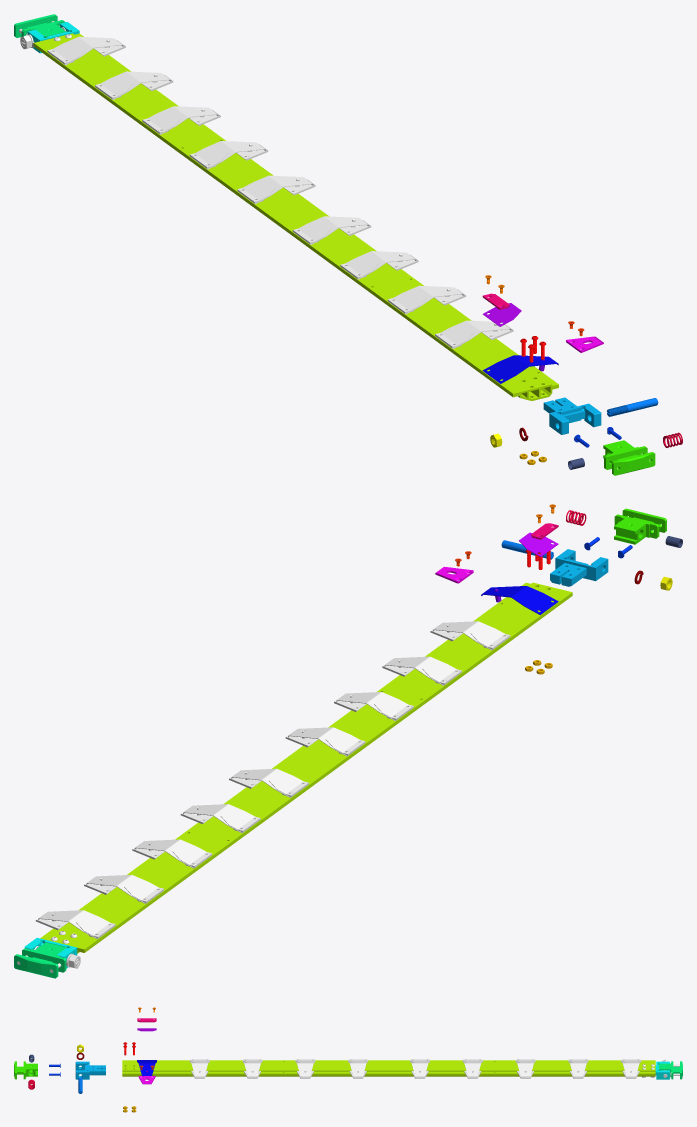
File: example_3D_viewer_step_v1.glb
3 renders of one model, top to bottom at view 1: azimuth 30°, elevation 25°; view 2: azimuth 150°, elevation 25°; view 3: azimuth 270°, elevation 25°, orthographic. The views are drawn at different scales.
Visible parts, largest first — view 1: Solid1 (×5); view 2: Solid1 (×5); view 3: Solid1 (×15).
Boxes of the visible parts, <box> form: Solid1 (×5): <box>14,14,655,475</box>; Solid1 (×5): <box>14,508,666,978</box>; Solid1 (×15): <box>14,1060,682,1079</box>.
Bounding box in the file's own units: 0.2934 × 0.2903 × 1.84.
